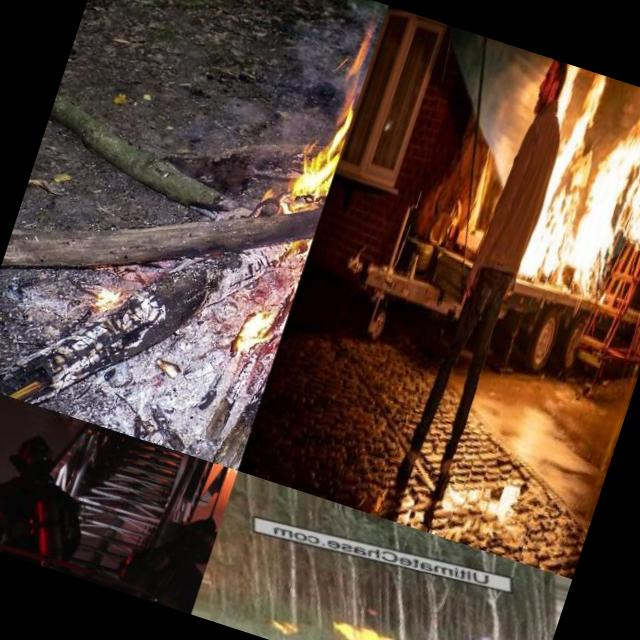fire: (231, 0, 387, 356), (518, 69, 640, 315), (326, 614, 424, 640), (268, 614, 312, 640)
